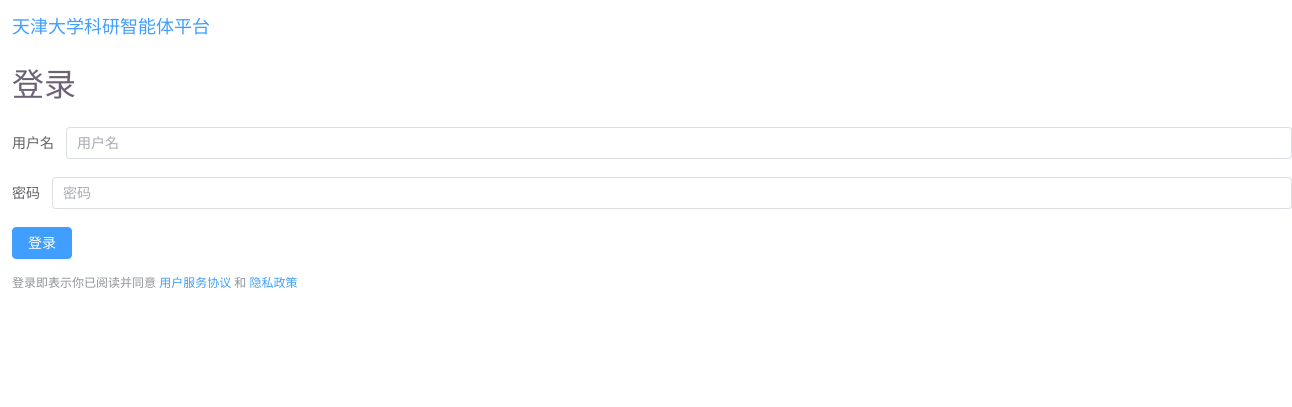
LoginView › 强制改密：两次新密码不一致 → 本地提示，不发改密请求
The width and height of the screenshot is (1292, 407).
Type "alice" into the field with placeholder "用户名".
click(679, 143); type("alice")  # box [77,128,1281,158]
Type "init-pass-1" into the password field with placeholder "密码".
click(672, 193); type("init-pass-1")  # box [63,178,1281,208]
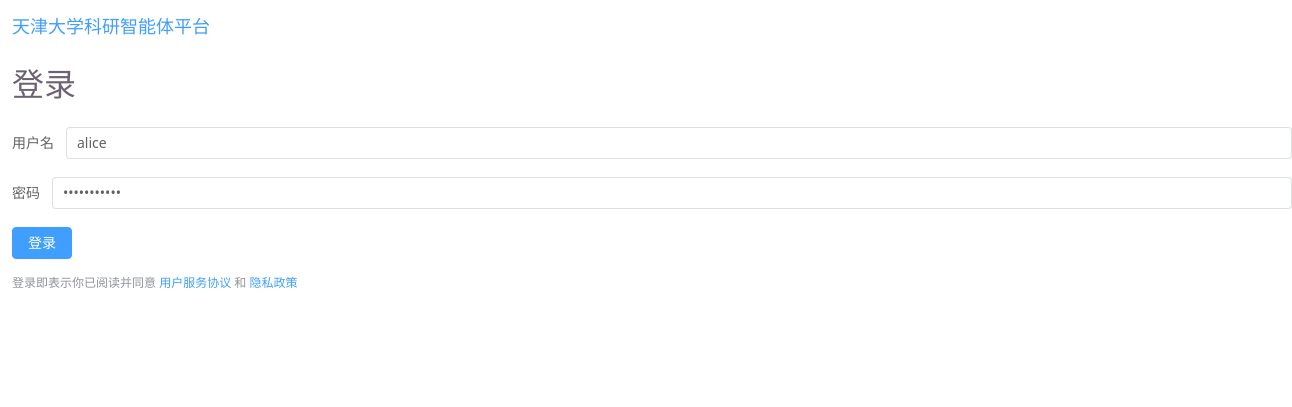
Click the button "登录".
click(42, 243)  # box [12,227,72,259]
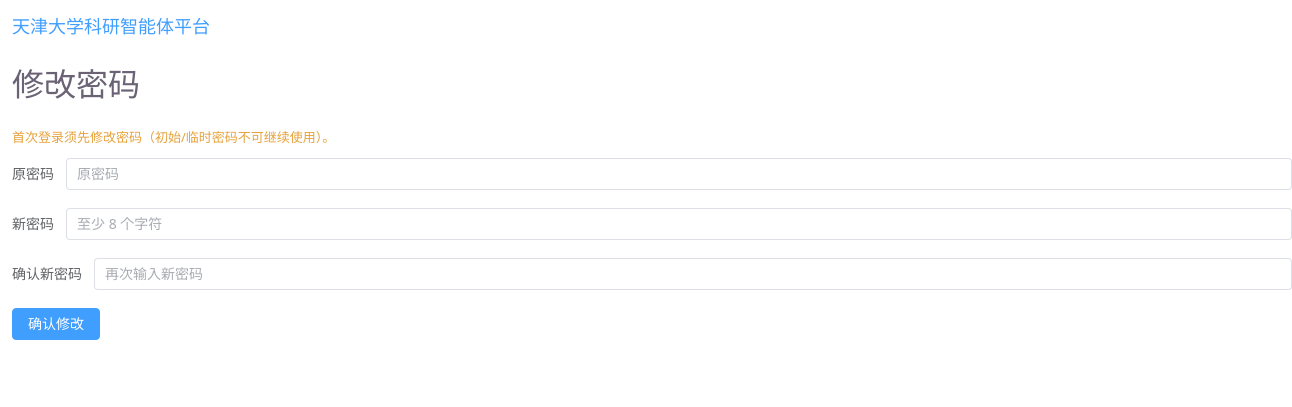
Type "init-pass-1" into the password field with placeholder "原密码".
click(679, 174); type("init-pass-1")  # box [77,159,1281,189]
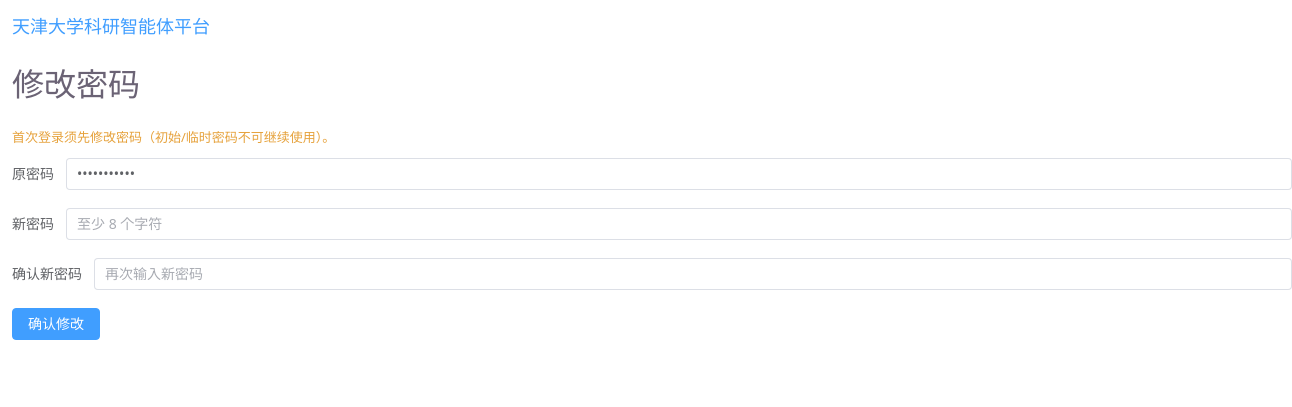
Type "new-pass-123" into the password field labelled "新密码".
click(679, 224); type("new-pass-123")  # box [77,209,1281,239]
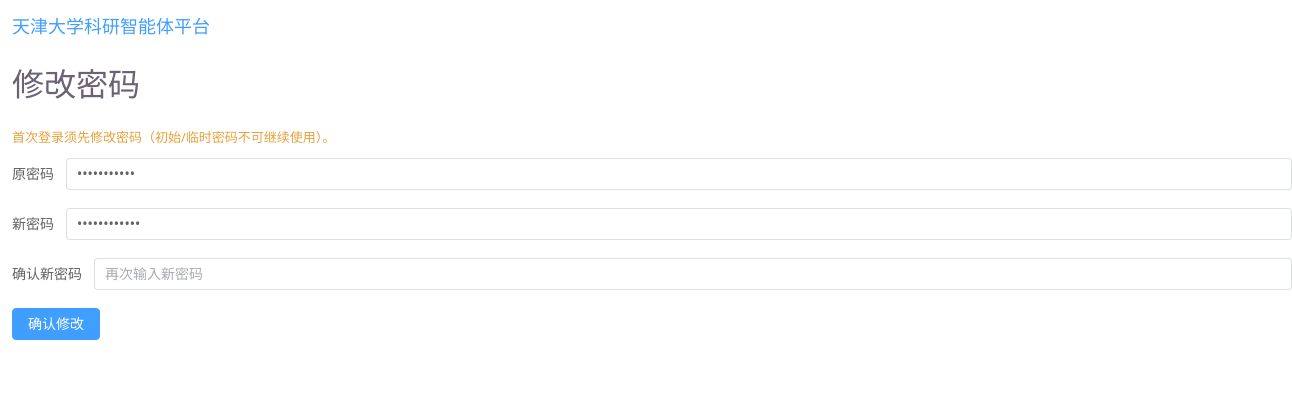
Type "new-pass-456" into the password field labelled "确认新密码".
click(693, 274); type("new-pass-456")  # box [105,259,1281,289]
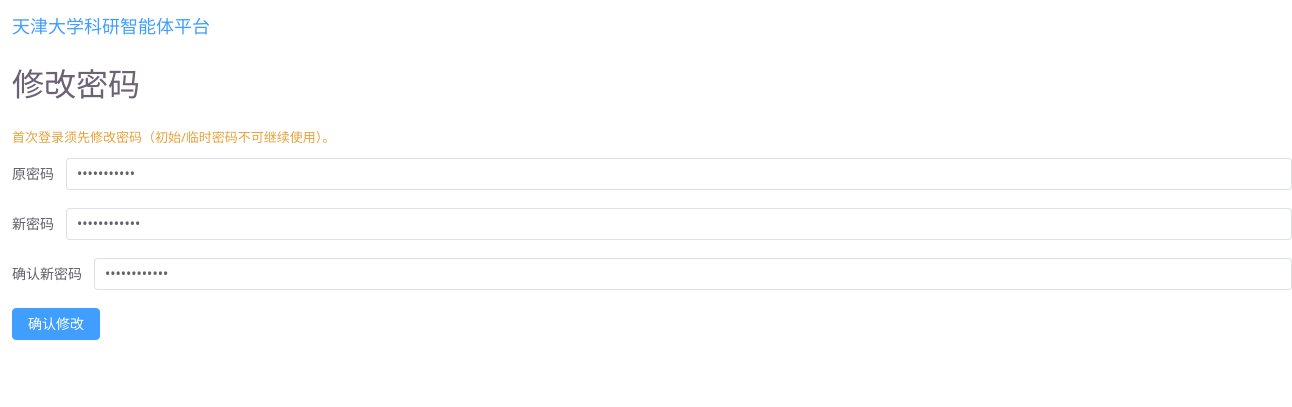
Click the button "确认修改".
click(56, 324)  # box [12,308,100,340]
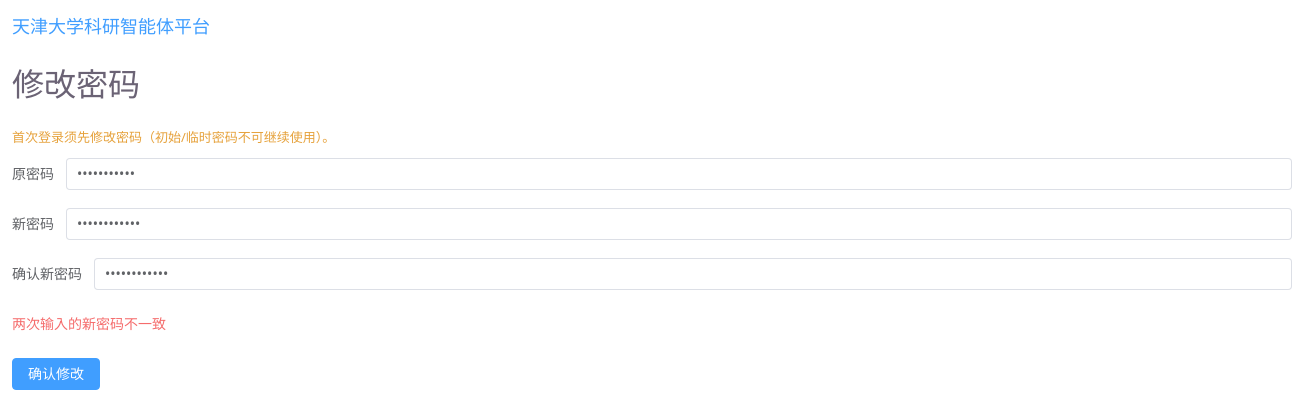
Check: the text "两次输入的新密码不一致" is shown, box [12,314,166,333]
